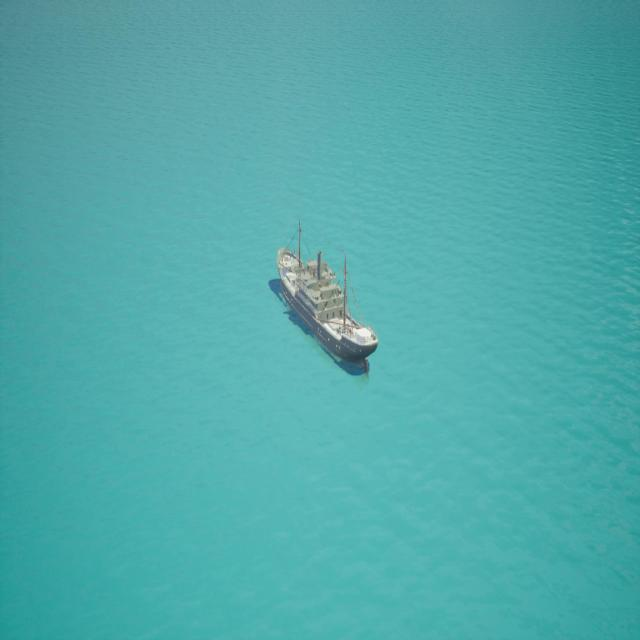fishing ship: (272, 218, 377, 375)
